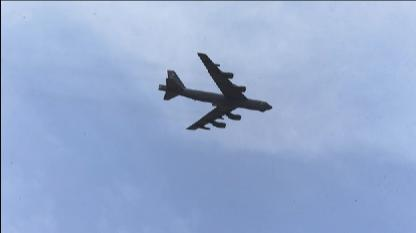B2: (158, 52, 272, 130)
